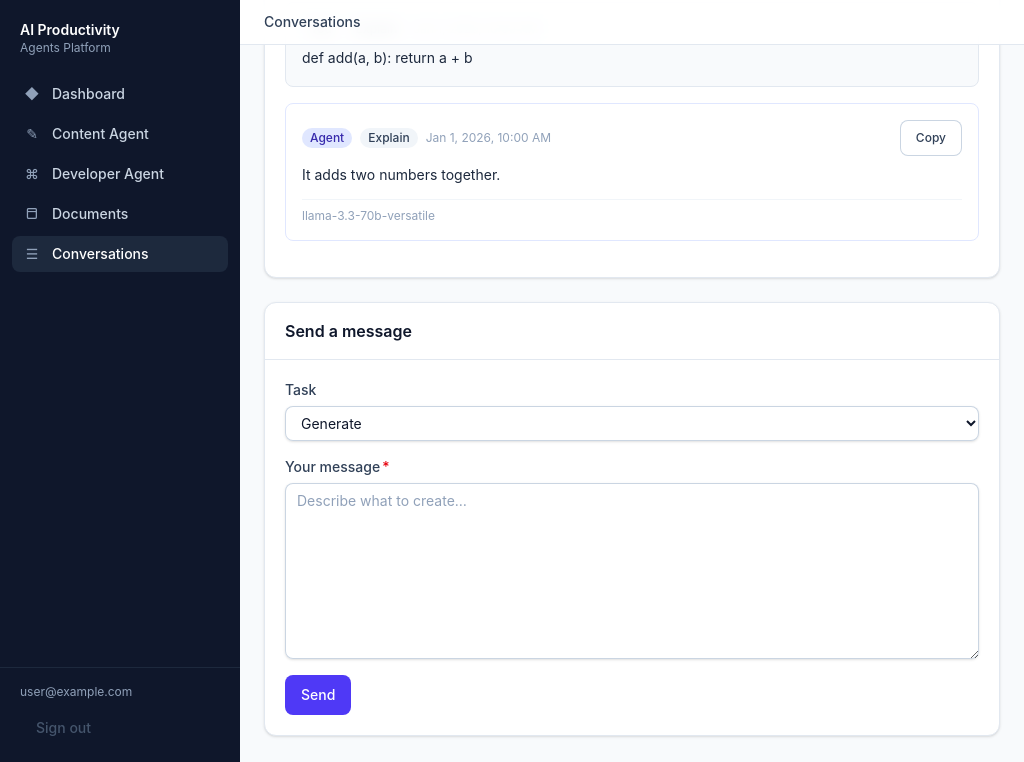
Test: Conversation detail › rejects a task the agent cannot perform, using the backend message
The image size is (1024, 762).
(page scrolled)
Type "text" into the text box labelled "Your message*".
click(632, 570); type("text")  # box [285,482,979,658]
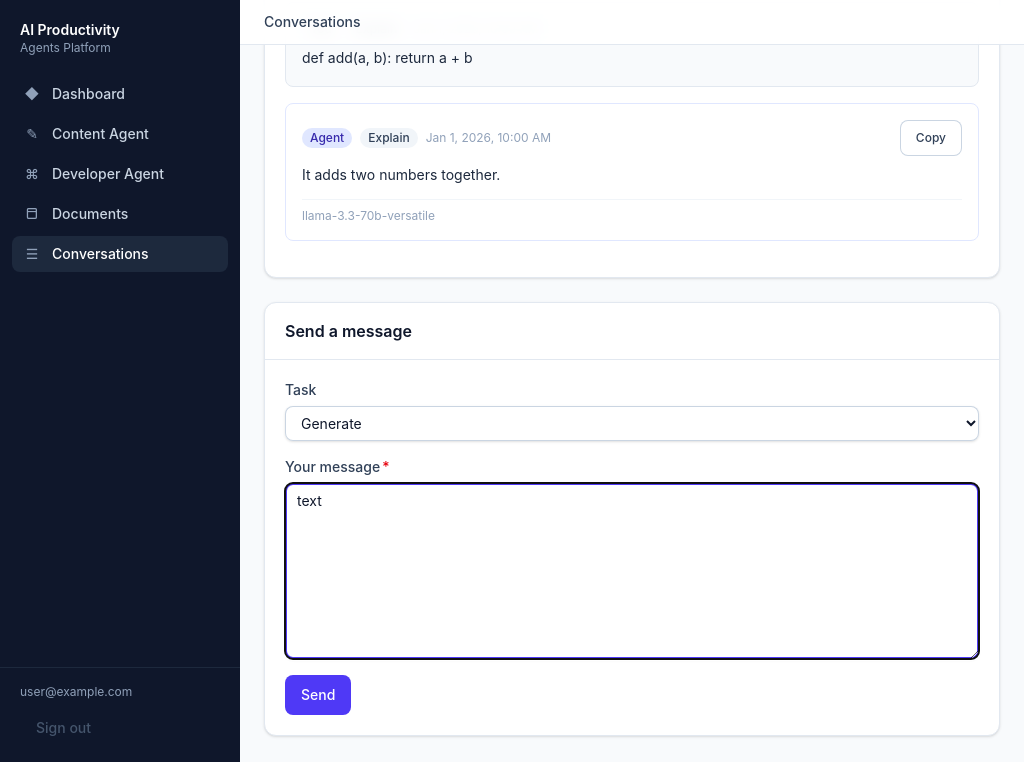
Click the button "Send".
click(318, 694)  # box [285,674,351,714]
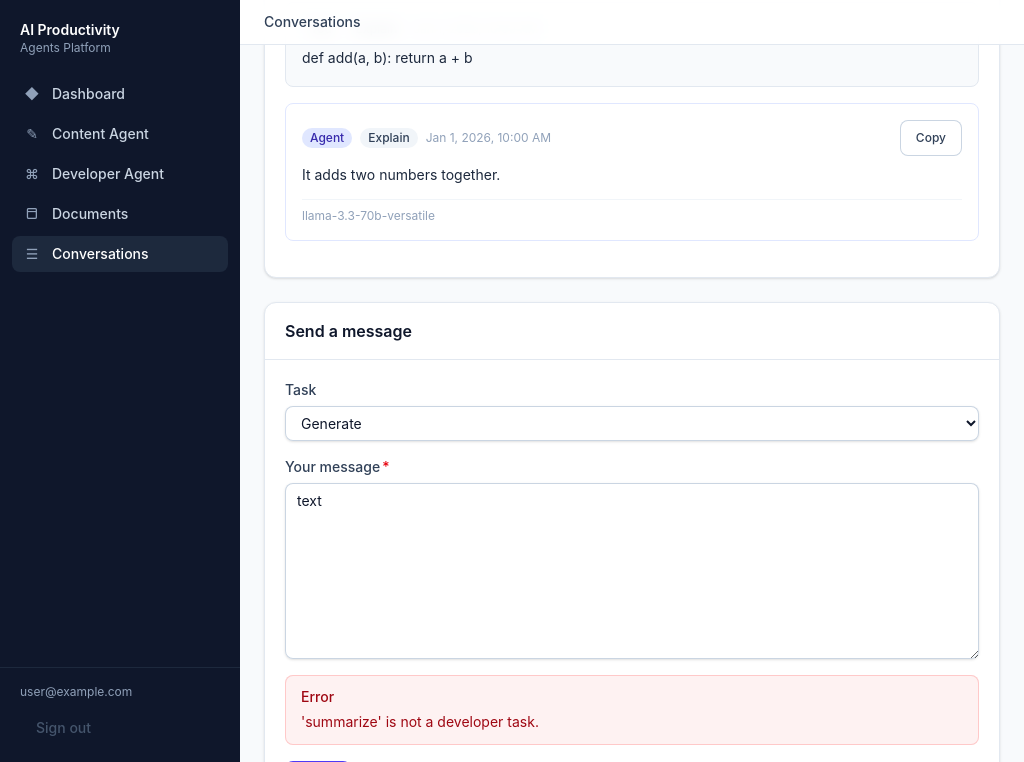
Now the message shows "not a developer task", box [301,712,539,730]
